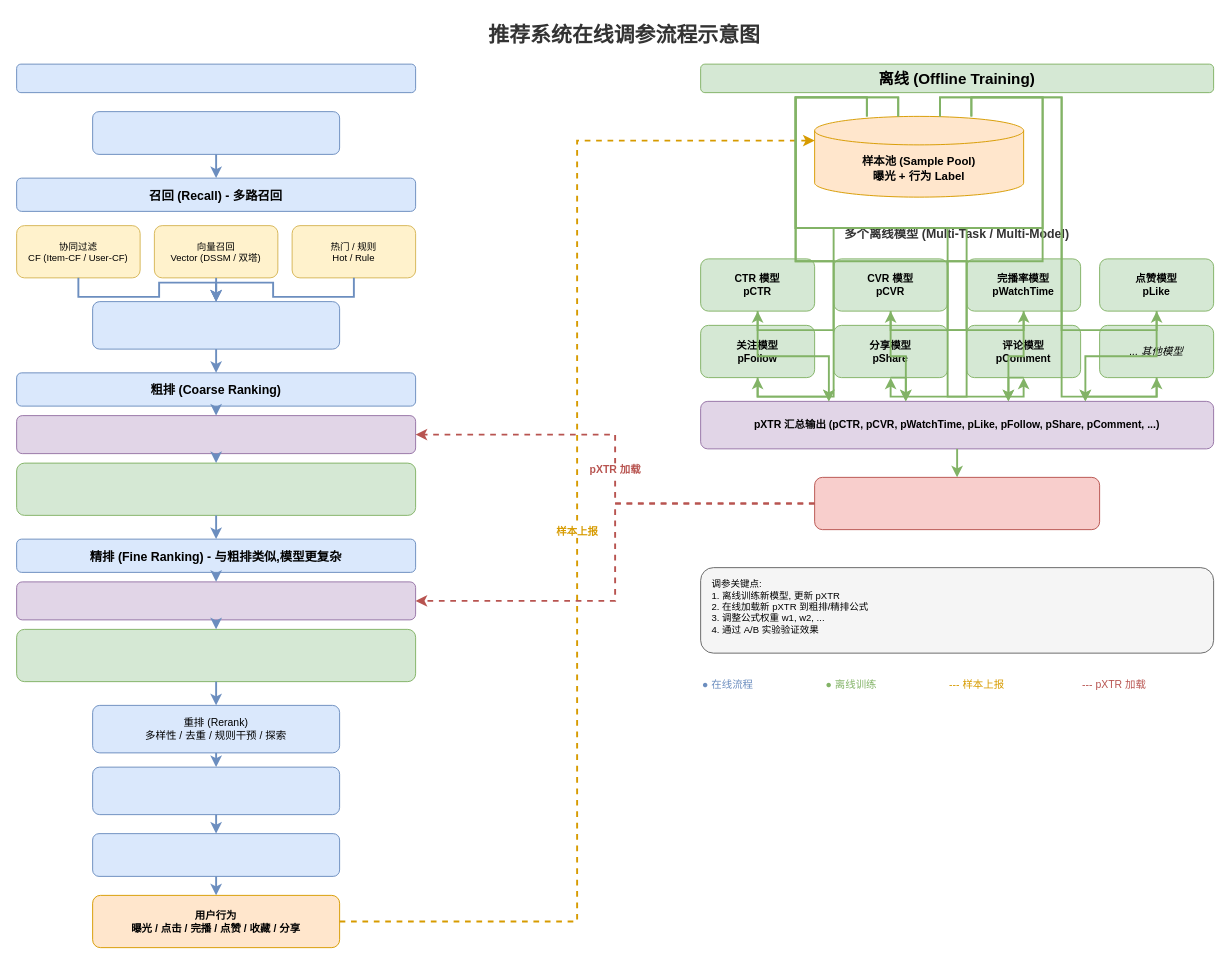
The diagram is 1230 pixels wide and 964 high, and some of its shapes have lost their labels. The centre of each missing label's shape, as x and y in pixels:
"pXTR 特征槽 (pCTR, pCVR, pWatchTime, pLike, ...)" goes at (x=216, y=434).
"pXTR 特征槽 (pCTR, pCVR, pWatchTime, pLike, pFollow, ...)" goes at (x=216, y=600).
"Score = f(pCTR, pCVR, pWatchTime, pLike, ...) → 排序 + 截断 (Top-K2, e.g. 200)" goes at (x=216, y=655).
"Score = w1*pCTR + w2*pCVR + w3*pWatchTime + ... → 排序 + 截断 (Top-K1, e.g. 1000)" goes at (x=216, y=488).
"在线 (Online Serving)" goes at (x=216, y=78).
"在线 Serving (模型 / pXTR 加载到召回 / 粗排 / 精排)" goes at (x=957, y=503).
"混排 (Mix Ranking) 多业务 / 多类型内容混排" goes at (x=216, y=790).
"用户请求 (User Request)" goes at (x=216, y=132).
"过滤 (Filter) 黑名单 / 已曝光 / 合规 / 频控" goes at (x=216, y=325).
"返回推荐 List → 终端用户" goes at (x=216, y=854).
